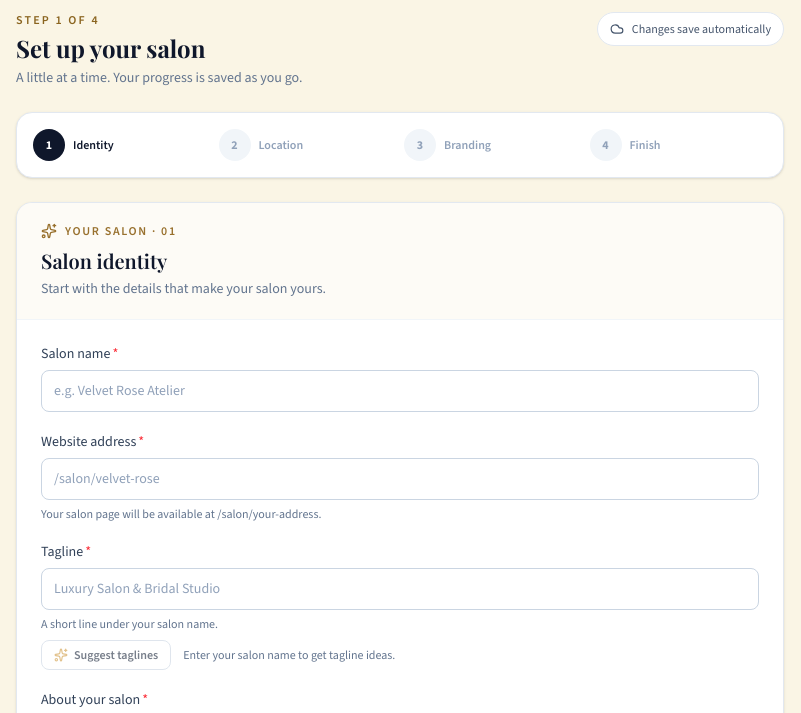
Test: salon onboarding wizard › backs up every edit immediately and shows the automatic-save status after remote sync
Expected: the heading "Salon identity" is shown, [41, 247, 167, 274]
Type "Draft Salon" into the field labelled "Salon name" at (400, 391), box [41, 370, 759, 412]
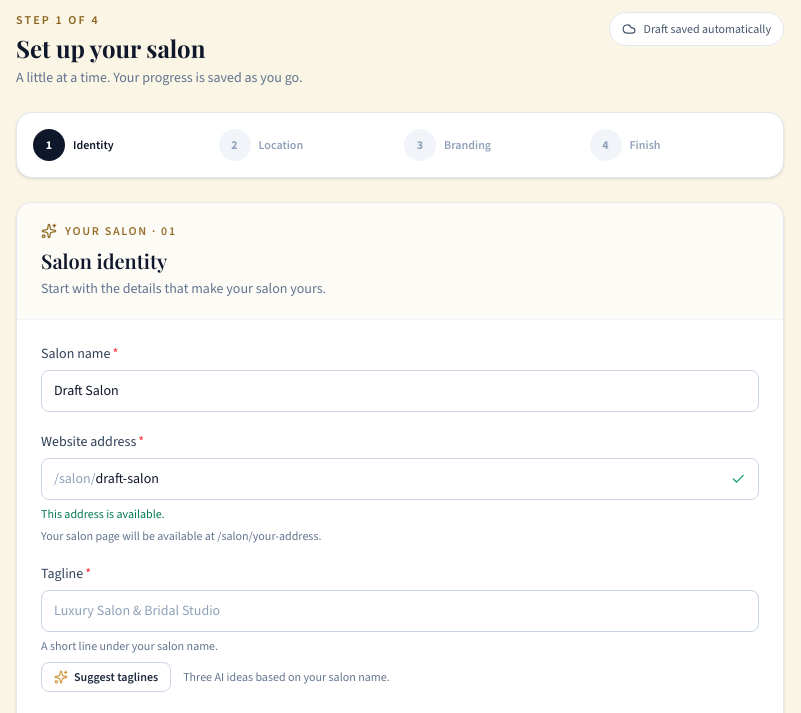
Result: the text "Draft saved automatically" is shown at [609, 12, 784, 46]
